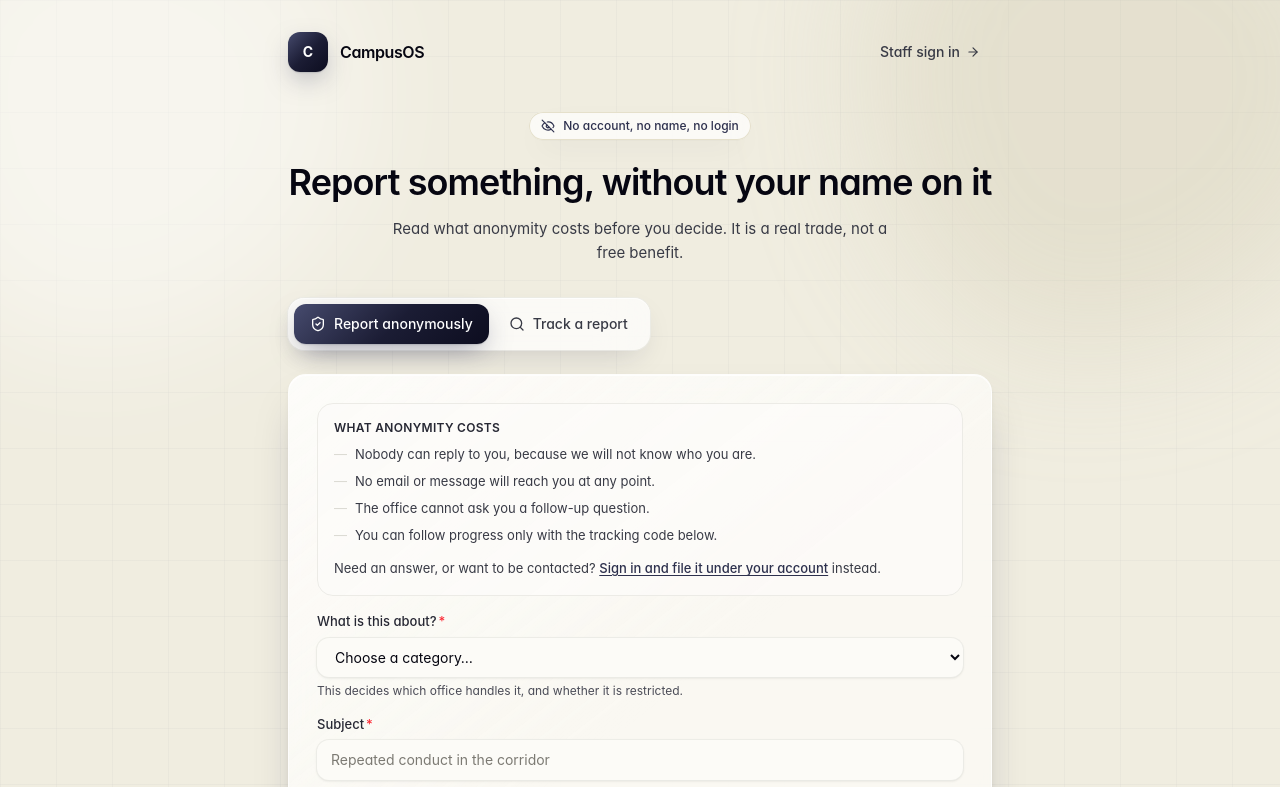
filing anonymously › warns that some categories are always restricted
The width and height of the screenshot is (1280, 787).
Expected: the text "always treated as restricted" is not shown
Select "Harassment" in the dropdown labelled "What is this about?*" at coordinates (640, 657), box [317,638,963,677]
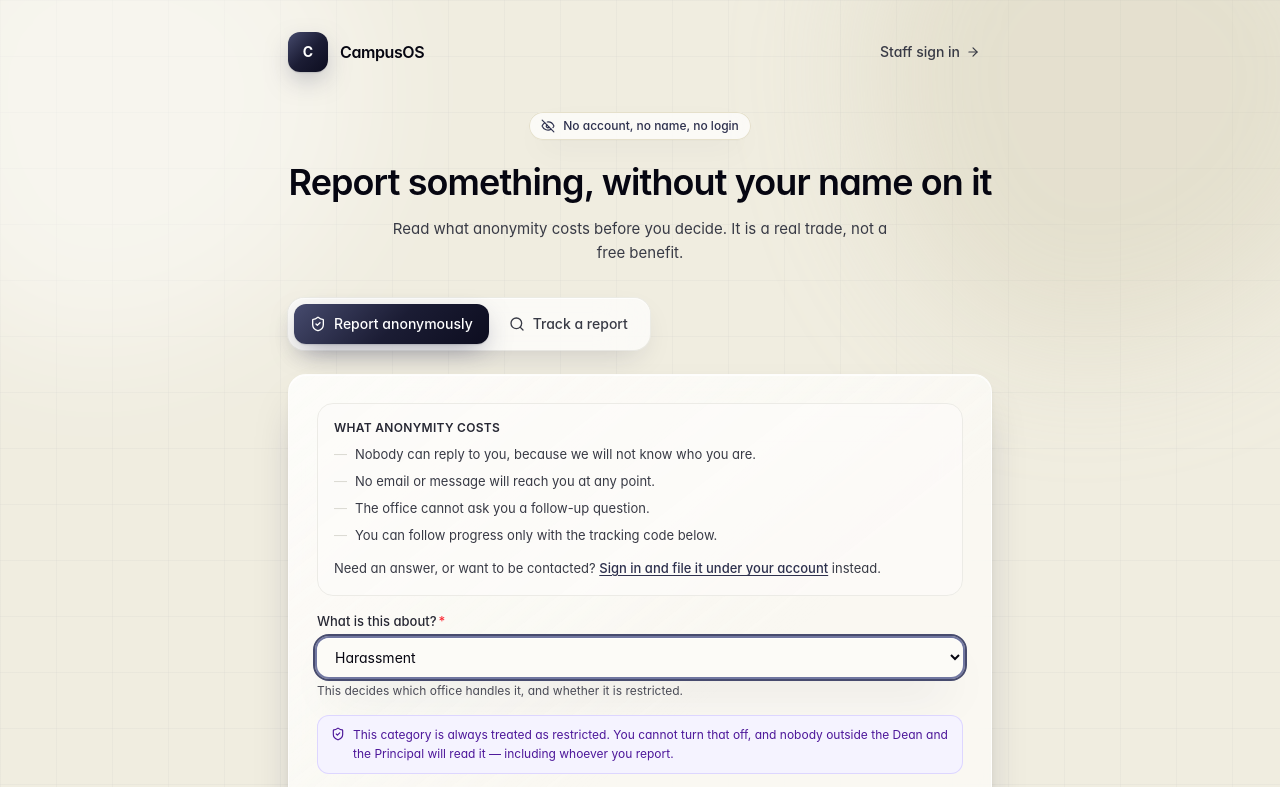
Expected: the text "including whoever you report" is shown, [353,727,948,761]
